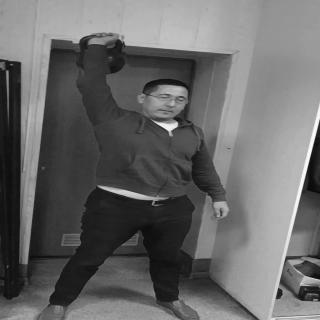kettlebell: (74, 33, 130, 77)
